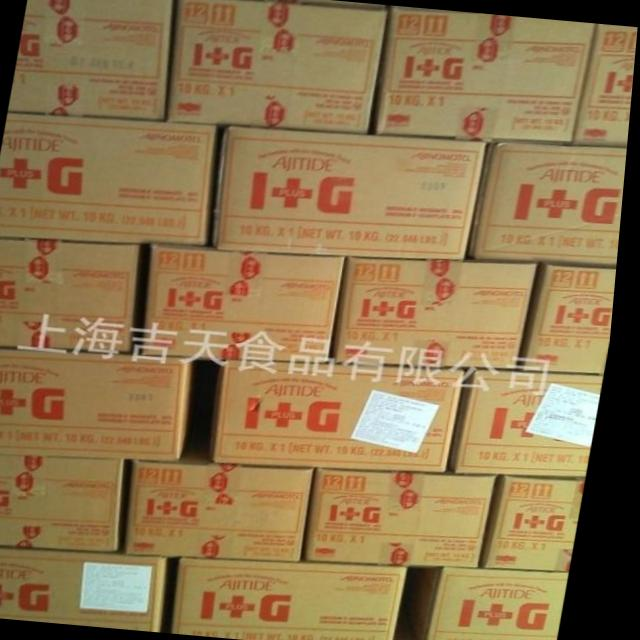box: (216, 124, 488, 259), (375, 8, 596, 144), (0, 111, 219, 247), (169, 0, 390, 134), (219, 360, 471, 472), (146, 244, 350, 363), (338, 256, 543, 369), (0, 347, 197, 461), (471, 141, 630, 266), (9, 0, 173, 120), (135, 460, 323, 561), (183, 559, 417, 640), (314, 468, 503, 565), (457, 369, 610, 478), (0, 238, 144, 352), (0, 548, 177, 632), (0, 456, 132, 551), (417, 566, 579, 640), (529, 264, 621, 375), (491, 475, 594, 570), (573, 23, 638, 146)
